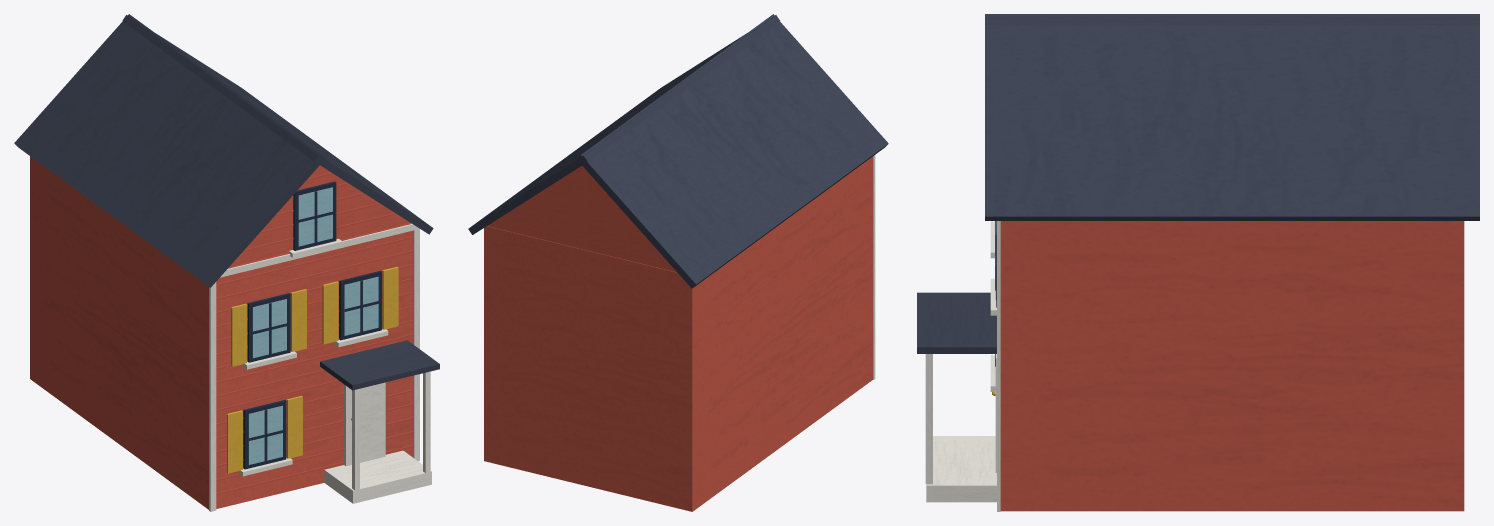
Rendered from townhouse_red.glb.
3 renders of one model, left to right at view 1: azimuth 30°, elevation 25°; view 2: azimuth 150°, elevation 25°; view 3: azimuth 270°, elevation 25°, orthographic. The views are drawn at different scales.
Visible parts, largest first — view 1: townhouse; view 2: townhouse; view 3: townhouse.
Boxes of the visible parts, left/top/right/bottom form: townhouse: left=14, top=14, right=439, bottom=511; townhouse: left=468, top=14, right=888, bottom=511; townhouse: left=917, top=14, right=1479, bottom=511.
Size of the model in its own units: 5.47 by 7.69 by 9.1.
12 materials, 12 textured.
